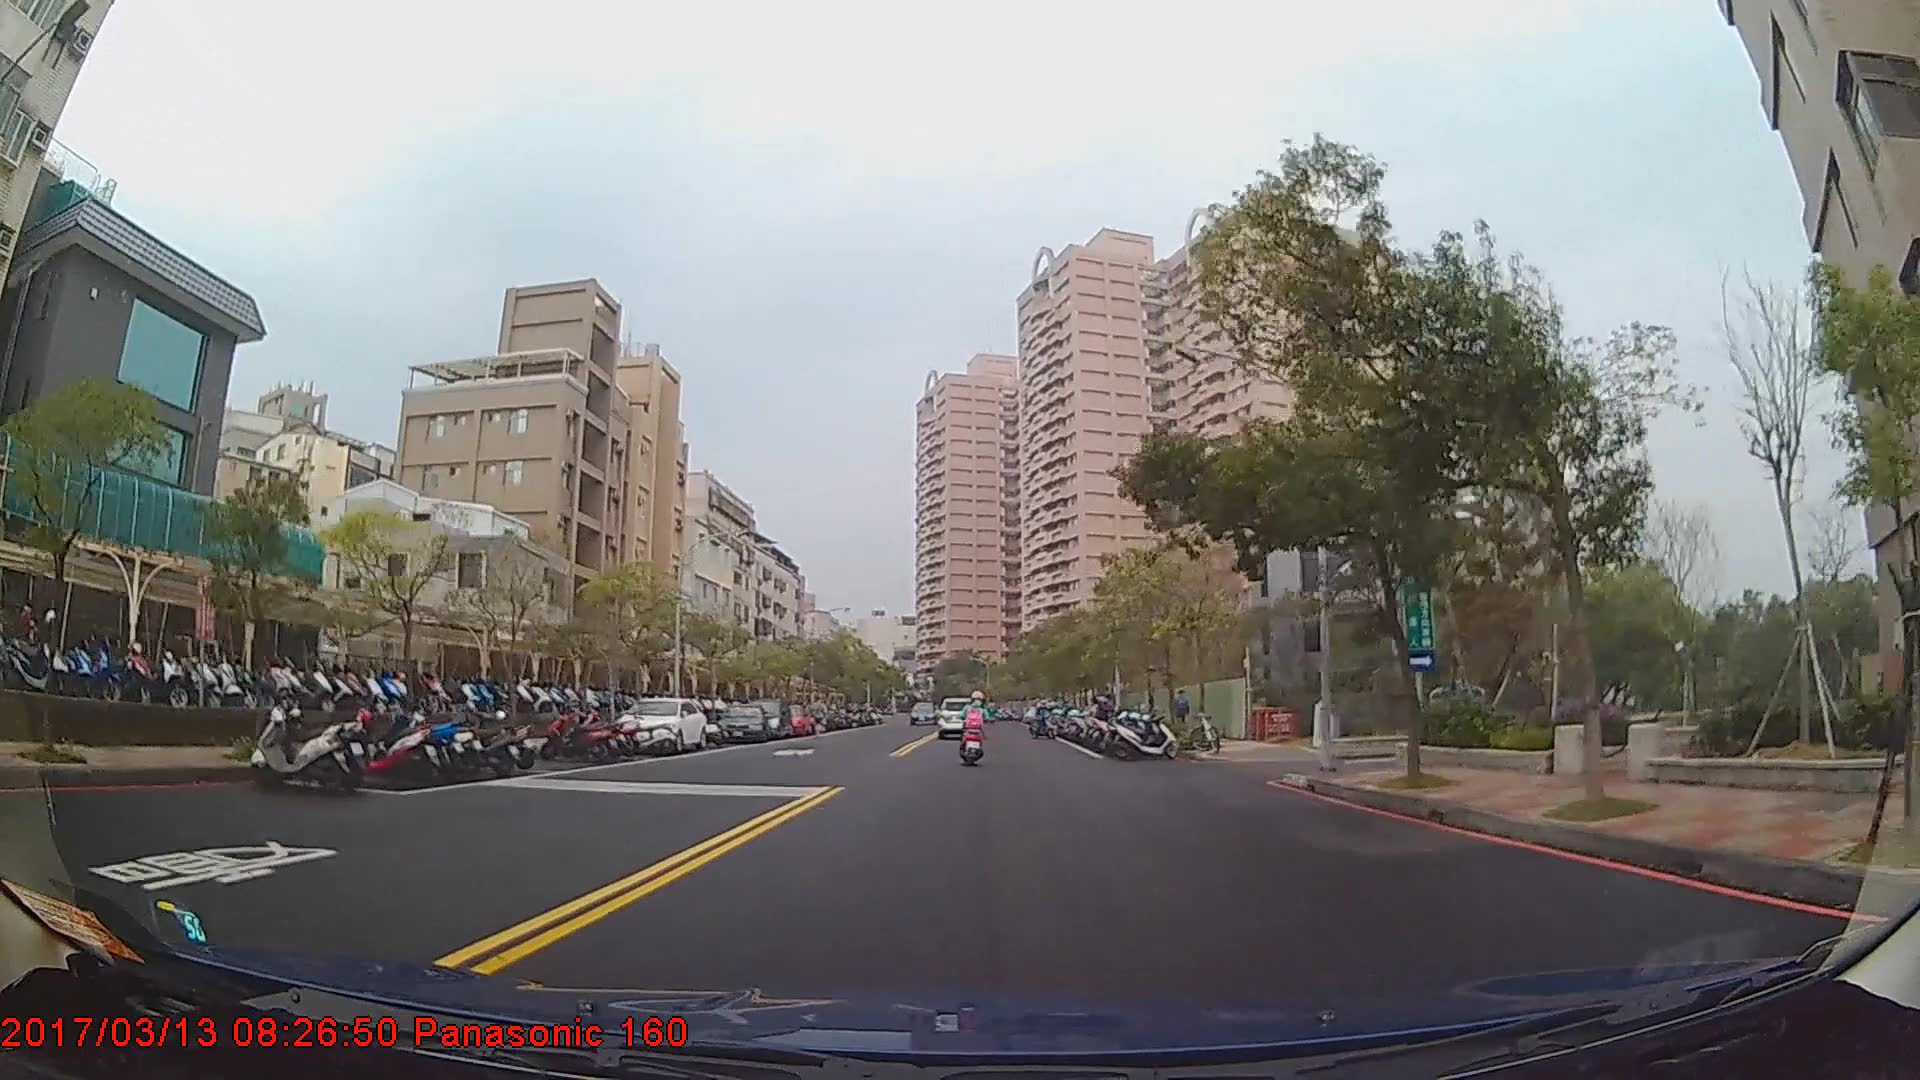pedestrian: (1171, 688, 1191, 739)
rider: (963, 687, 992, 760)
vehicle: (611, 696, 707, 753), (712, 700, 767, 742), (934, 694, 984, 739), (740, 695, 790, 739), (908, 701, 936, 725)
